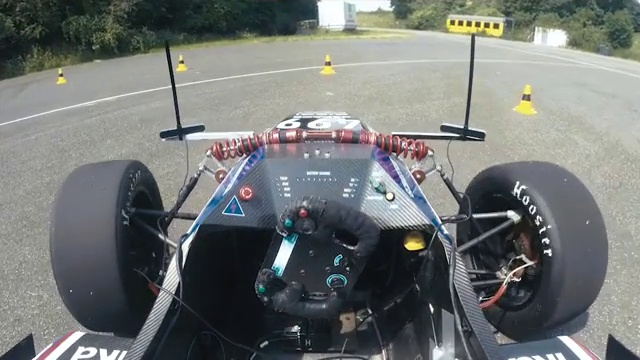Cone: (512, 84, 538, 115), (321, 54, 336, 75), (54, 67, 69, 86), (174, 55, 189, 72)
